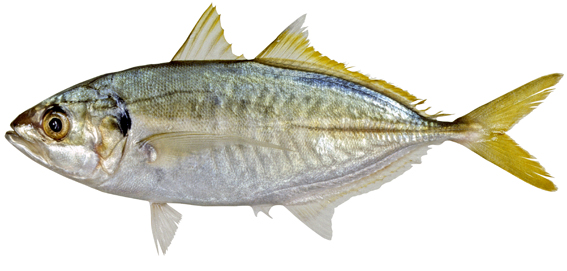fish: (5, 2, 564, 254)
